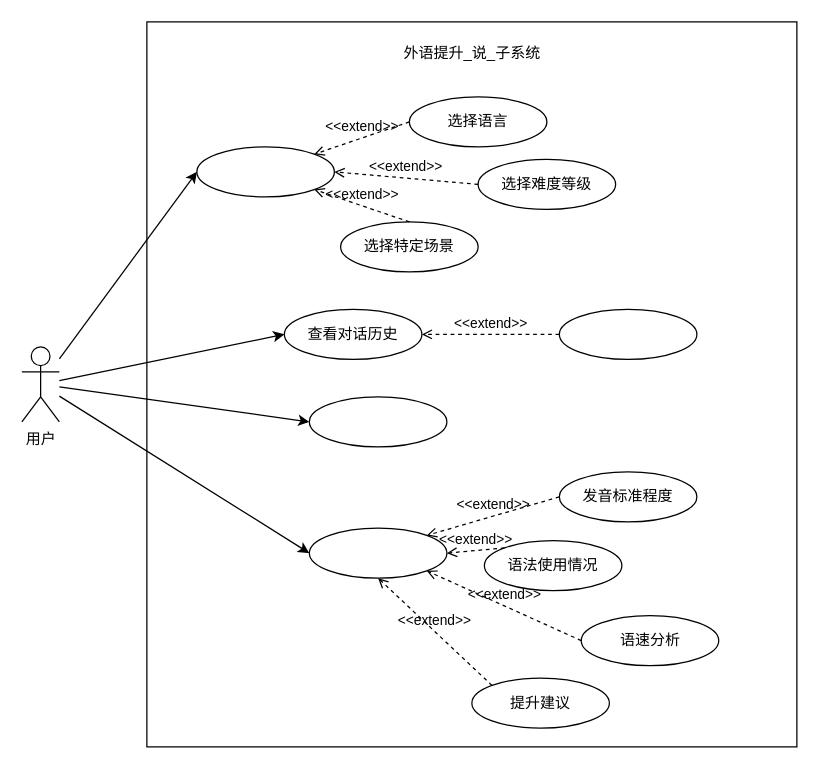
Some shapes in this 819 by 769 pixel diagram are drawn without their labels. Each missing label, with the box of its shape:
回顾对话内容 （音频+文本: (558, 308, 697, 359)
开展语音对话: (196, 146, 334, 197)
收藏对话记录: (308, 396, 447, 447)
查看口语报告: (308, 527, 447, 578)
